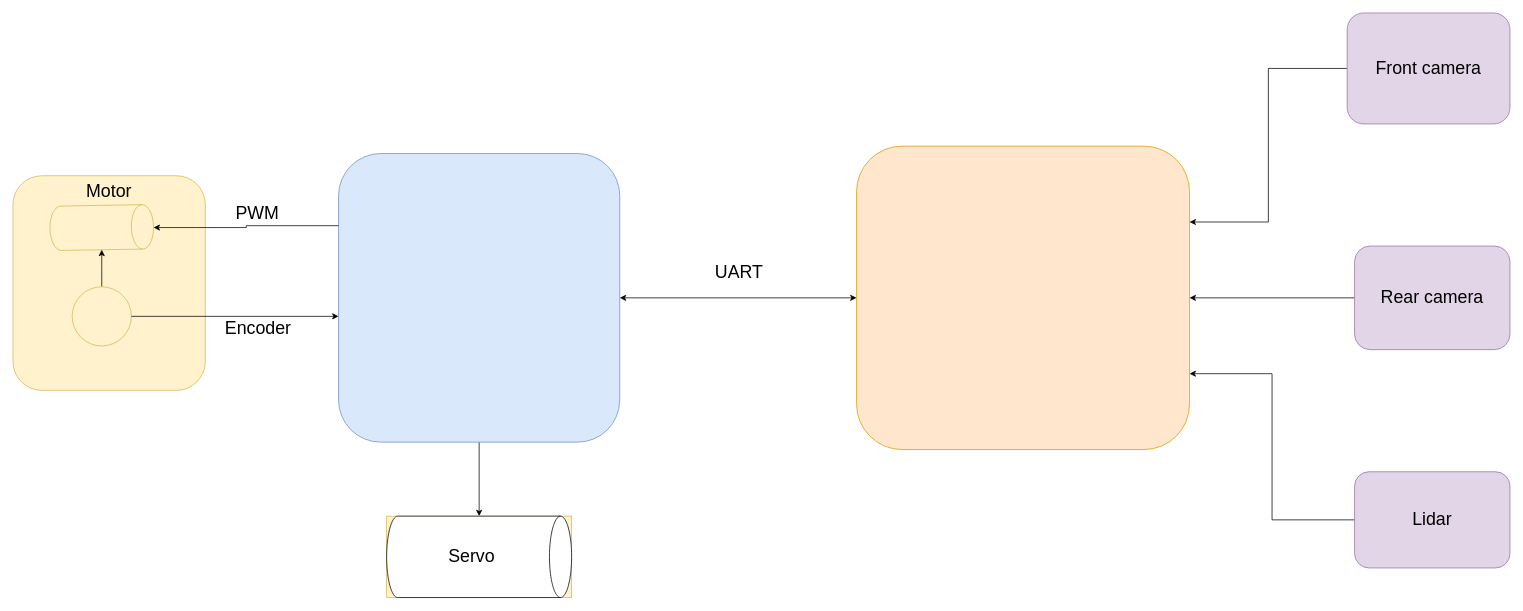
Image size: 1523x611. Some labels were removed from this diagram. Each missing label, with the centre of its shape:
"ESP 32" goes at point (479, 297).
"Raspberry pi" goes at point (1023, 297).
